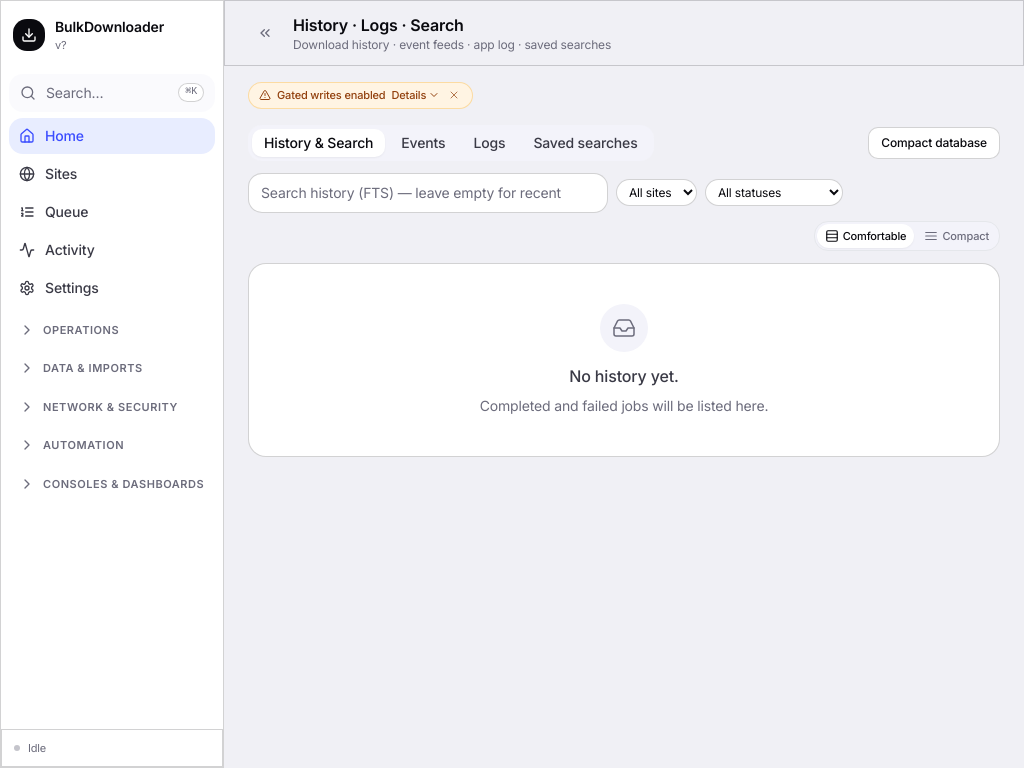
Test: F7 History tabs and Sites › F7 control: empty answers still read as empty
Click the tab "Events" at (423, 142), box 389,128 -> 457,156
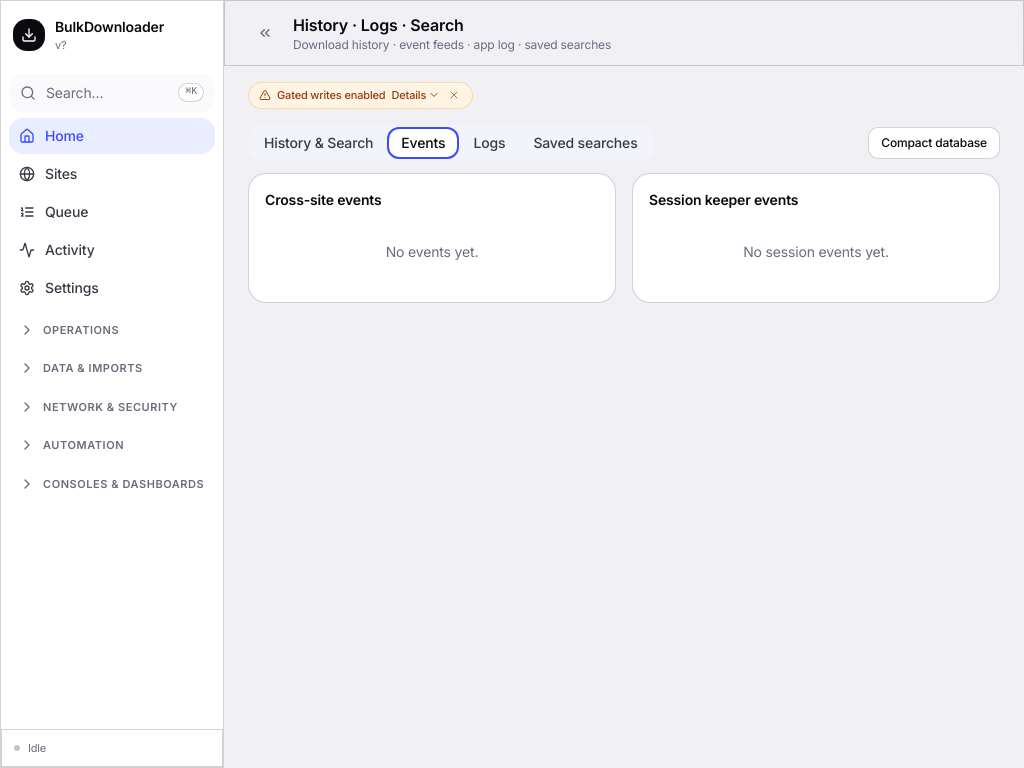
Now the text "No events yet." is shown, box 386,242 -> 478,260
